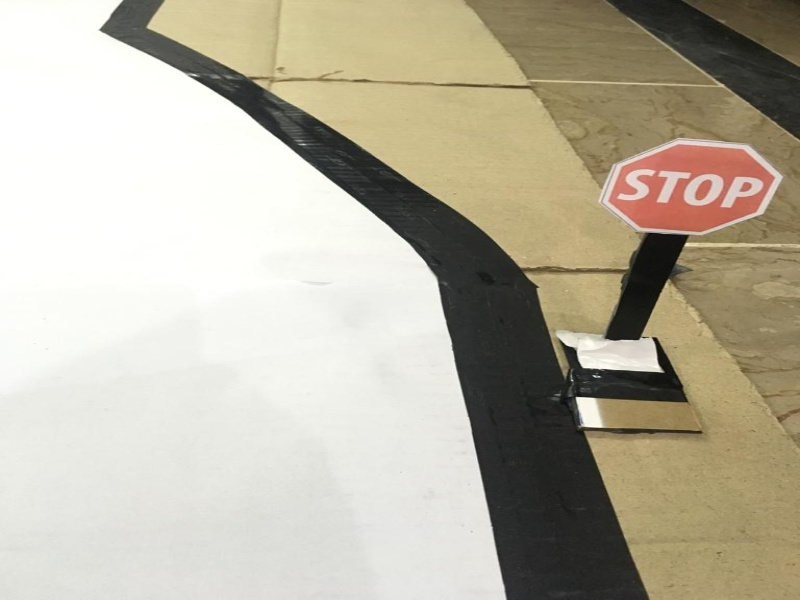Stop: (600, 123, 785, 236)
